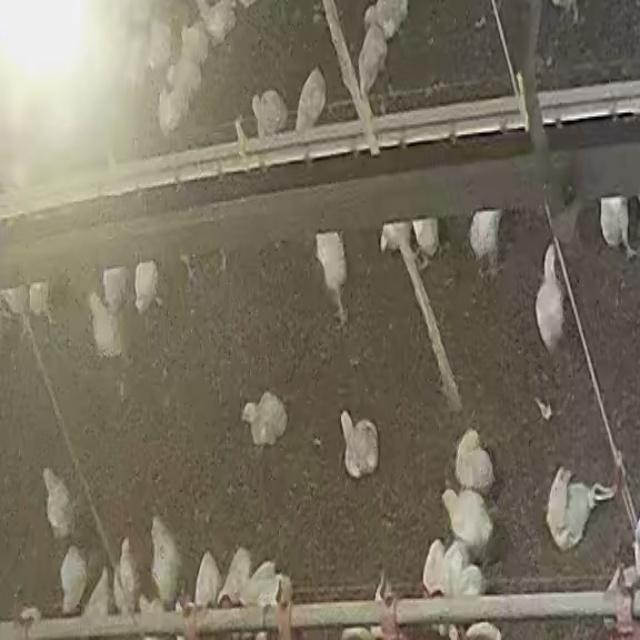chicken: (545, 466, 611, 550), (442, 484, 495, 554), (535, 242, 566, 360), (313, 230, 349, 320), (149, 515, 183, 607), (338, 410, 381, 479), (454, 429, 495, 494), (242, 559, 292, 610), (43, 466, 76, 542), (86, 290, 122, 359), (356, 27, 391, 96), (242, 394, 288, 446), (468, 210, 504, 276), (59, 544, 91, 616), (217, 546, 253, 606), (294, 69, 328, 132), (442, 543, 480, 594), (116, 536, 140, 616), (251, 87, 288, 137), (197, 0, 241, 38), (379, 220, 416, 264), (157, 83, 187, 137), (197, 550, 224, 609), (137, 592, 171, 637), (168, 57, 208, 95), (84, 565, 112, 619), (134, 261, 162, 315), (127, 40, 153, 96), (362, 0, 410, 30), (599, 195, 625, 250), (0, 284, 31, 330), (102, 265, 131, 314), (422, 539, 446, 596), (412, 217, 440, 262), (28, 281, 54, 327), (153, 18, 174, 74), (180, 22, 212, 58)
